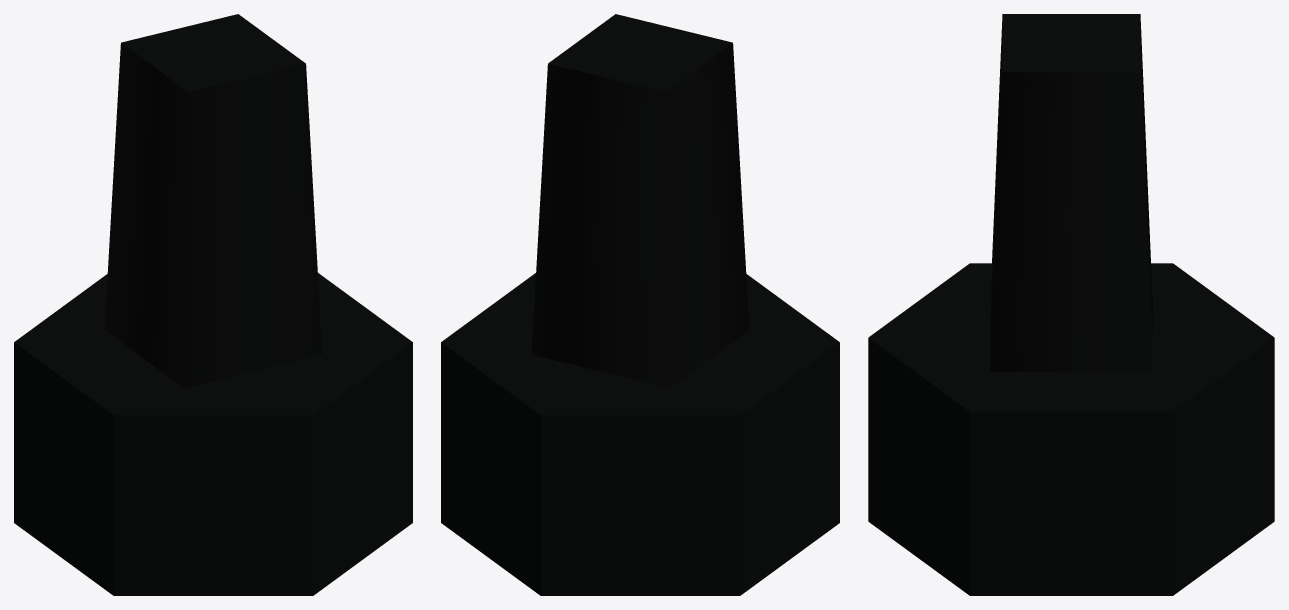
File: debris-bolt.glb
3 renders of one model, left to right at view 1: azimuth 30°, elevation 25°; view 2: azimuth 150°, elevation 25°; view 3: azimuth 270°, elevation 25°, orthographic.
Visible parts, largest first — view 1: debris-bolt; view 2: debris-bolt; view 3: debris-bolt.
Part boxes in pixels (x1,y1,x2,y2): debris-bolt: [14, 14, 412, 595]; debris-bolt: [441, 14, 839, 595]; debris-bolt: [868, 14, 1274, 595].
Bounding box in the file's own units: 0.1732 × 0.26 × 0.2.
1 material, 1 textured.
